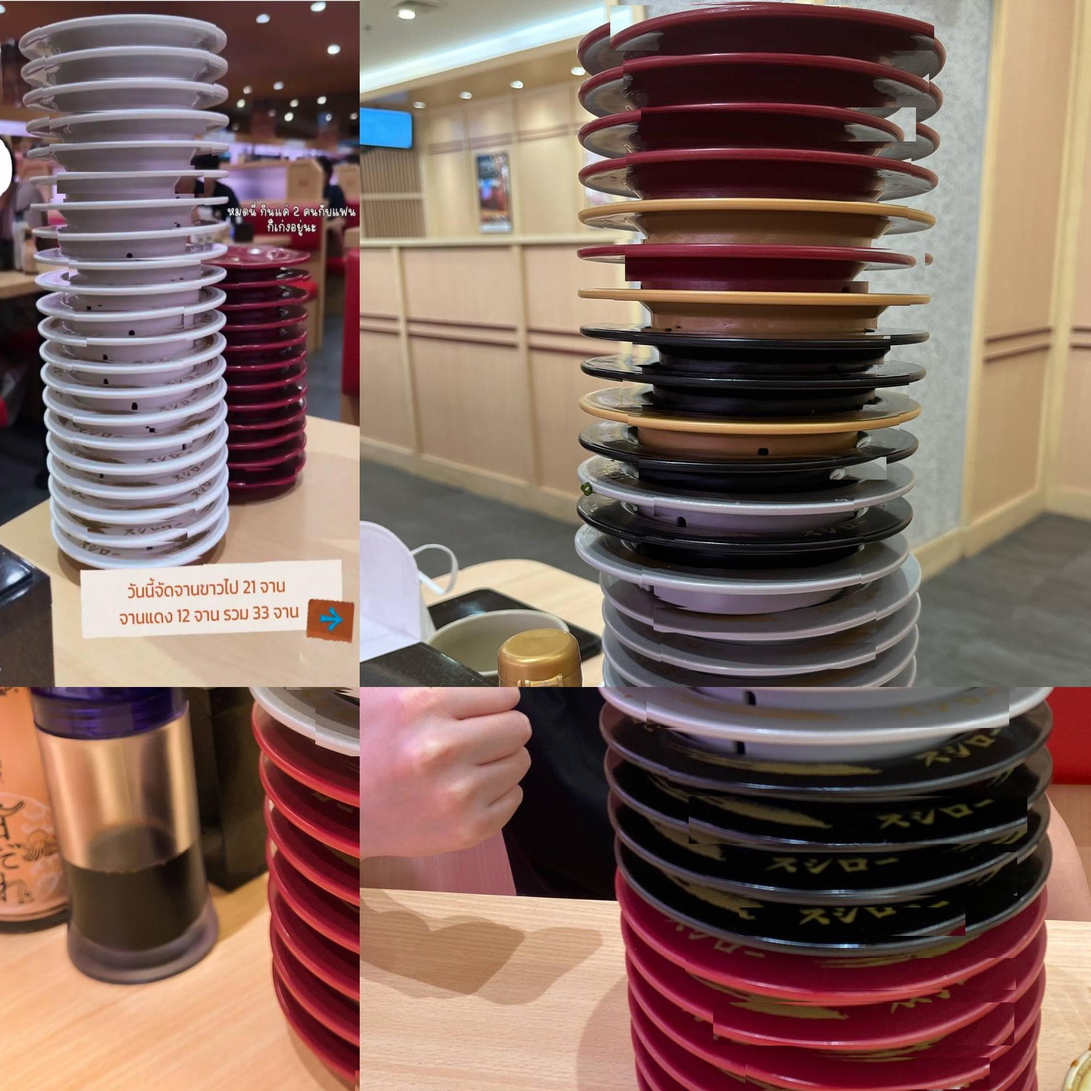Janback: (673, 794, 1044, 847), (692, 851, 1031, 898), (657, 755, 1056, 790), (616, 373, 916, 406), (616, 334, 907, 367), (725, 906, 981, 938), (625, 456, 901, 481), (620, 535, 885, 555)
Jangold: (599, 201, 913, 240), (604, 297, 920, 330), (620, 414, 908, 450)
Janred: (595, 3, 949, 53), (702, 1001, 1026, 1048), (609, 54, 943, 96), (618, 147, 919, 192), (676, 957, 1026, 991), (623, 106, 934, 144), (613, 248, 937, 283), (730, 1055, 1006, 1091), (240, 246, 310, 271), (235, 273, 307, 290), (245, 389, 302, 410), (242, 467, 299, 488), (243, 355, 303, 374), (241, 412, 301, 429), (240, 337, 309, 351), (239, 296, 299, 312), (241, 318, 304, 333), (242, 376, 305, 391), (243, 448, 303, 463), (233, 432, 302, 445)
Janwhite: (635, 687, 1021, 730), (636, 568, 868, 599), (644, 607, 886, 634), (655, 642, 881, 670), (638, 496, 871, 519), (38, 14, 219, 42), (38, 79, 219, 106), (40, 47, 215, 74), (44, 198, 210, 225), (48, 170, 215, 195), (52, 228, 211, 254), (42, 111, 214, 135), (43, 143, 220, 166), (66, 477, 203, 504), (61, 258, 210, 281), (69, 305, 191, 332), (62, 384, 216, 405), (70, 432, 196, 456), (62, 285, 205, 304), (68, 413, 203, 429), (63, 359, 193, 375), (77, 556, 210, 571), (80, 527, 195, 544), (78, 337, 196, 353), (82, 463, 194, 479), (79, 508, 204, 522)
